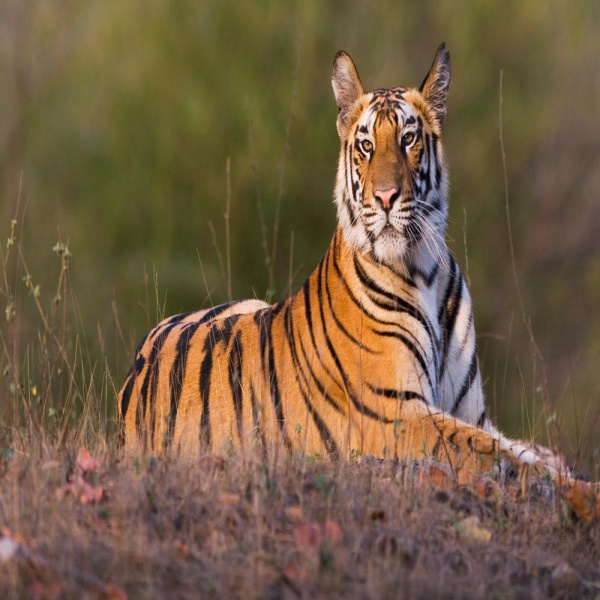Tiger: (115, 43, 599, 541)
